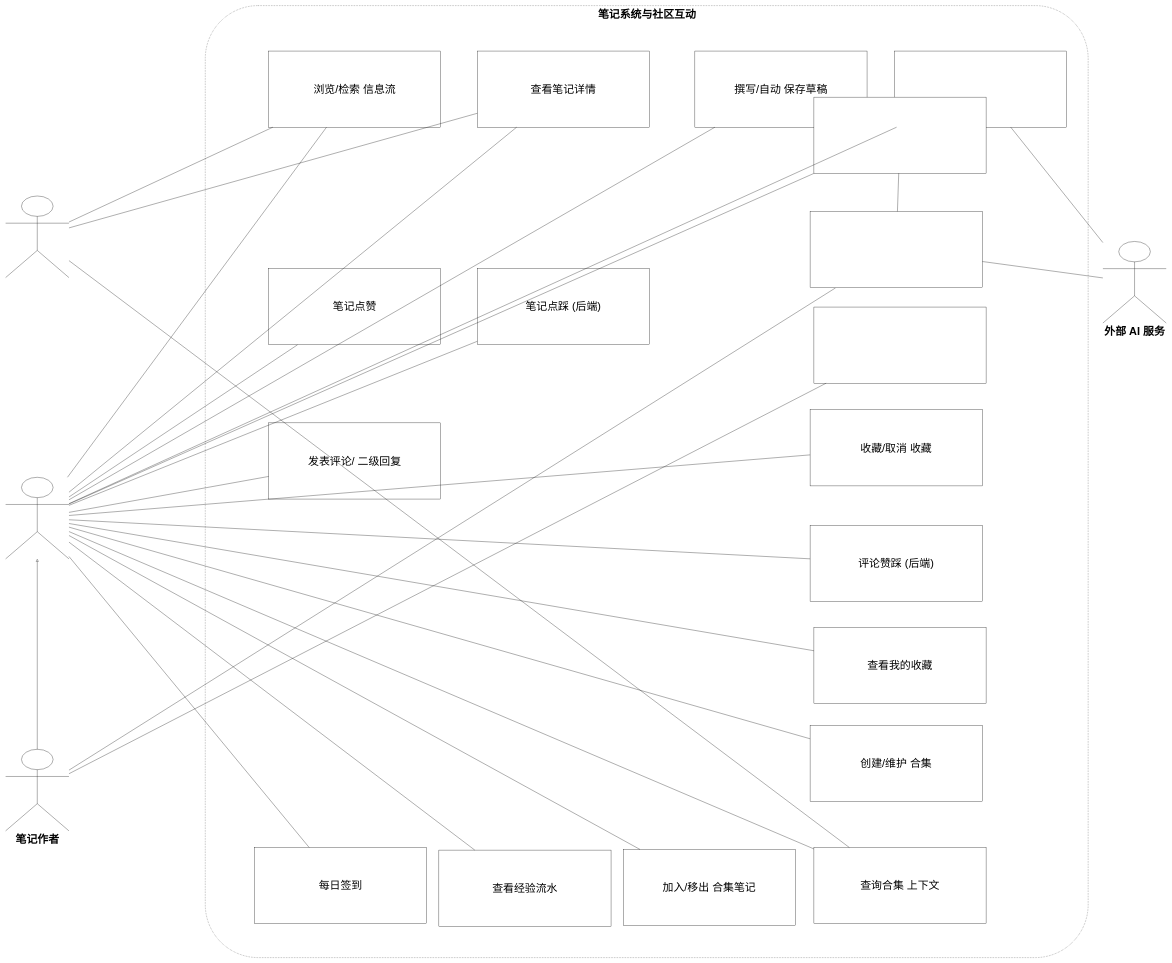
Some shapes in this 1172 by 963 pixel diagram are drawn without their labels. Here are the shapes that lost their labels. From the top down, the centre of each, then its label:
pixel 980 89: AI 选段润色
pixel 900 135: 发布笔记 (AI 摘要兜底)
pixel 37 237: 匿名访客
pixel 896 249: 删除评论
pixel 900 345: 编辑/删除 本人笔记
pixel 37 518: 注册用户
